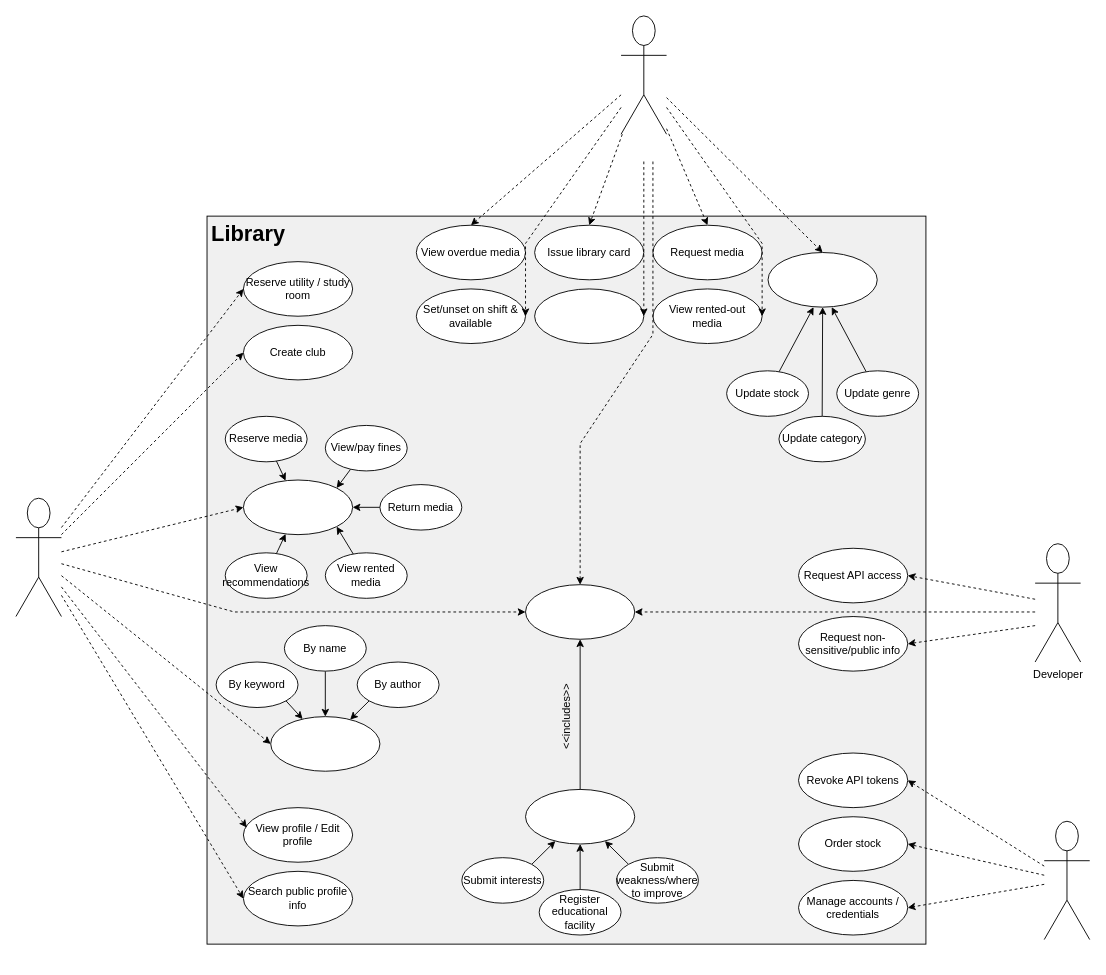
This 1106x975 diagram has some shape labels left out. Here are the shapes that lost their labels. From the top down, the centre of each, then its label:
At (643,74): "Librarian".
At (822,279): "Edit media".
At (589,316): "Manage utilities, bookings".
At (298,507): "Manage media".
At (38,557): "Member".
At (580,611): "Login / Logout".
At (325,743): "Search library".
At (580,816): "Register personal details".
At (1066,880): "Admin".
